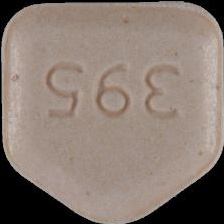61919-495: (0, 0, 224, 224)
